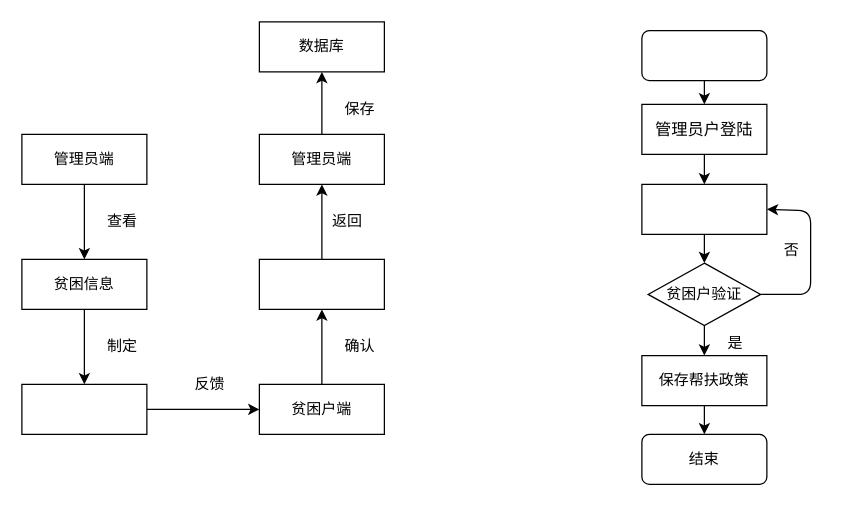
The diagram is 843 pixels wide and 506 high, and some of its shapes have lost their labels. Each missing label, with the centre of its shape:
"制定帮扶措施" goes at (704,208).
"帮扶措施" goes at (84,408).
"帮扶政策" goes at (321,283).
"开始" goes at (704,55).
